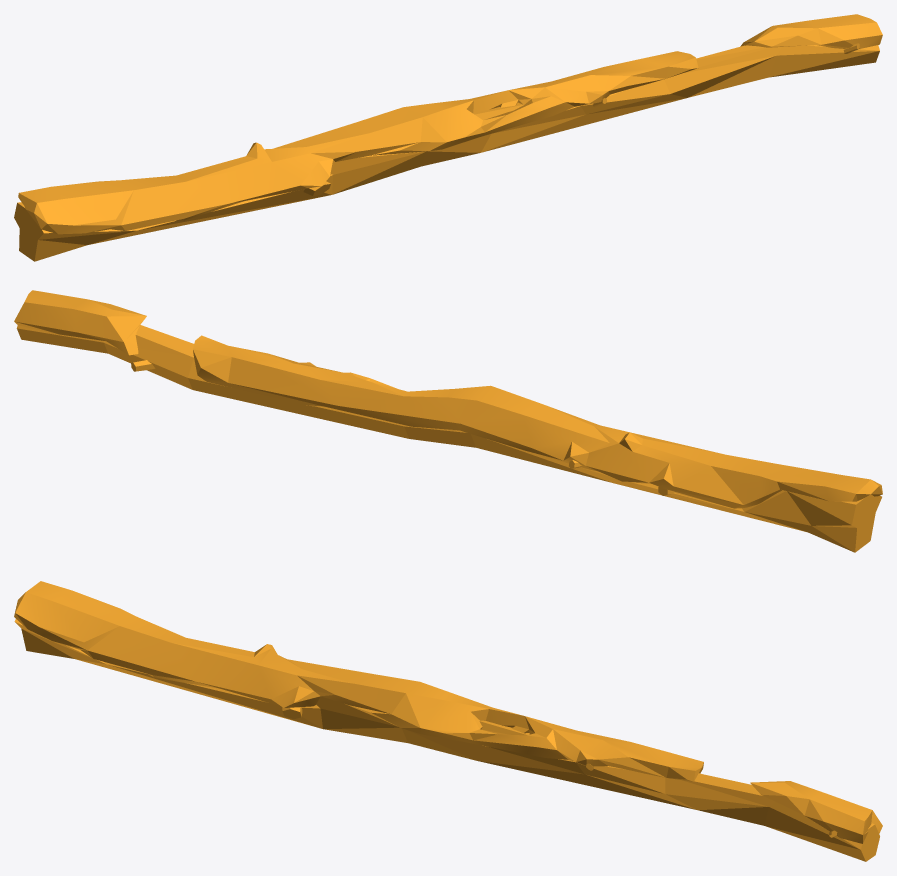
File: SM_Tree_Pine_Log_A_Snow.fbx
3 renders of one model, top to bottom at view 1: azimuth 30°, elevation 25°; view 2: azimuth 150°, elevation 25°; view 3: azimuth 330°, elevation 25°, orthographic.
Visible parts, largest first — view 1: tree-pine-log-a-snow; view 2: tree-pine-log-a-snow; view 3: tree-pine-log-a-snow.
Boxes of the visible parts, <box> form: tree-pine-log-a-snow: <box>14,14,882,261</box>; tree-pine-log-a-snow: <box>14,290,882,552</box>; tree-pine-log-a-snow: <box>14,581,882,861</box>.
Bounding box in the file's own units: 7.52 × 0.5421 × 0.5942.
